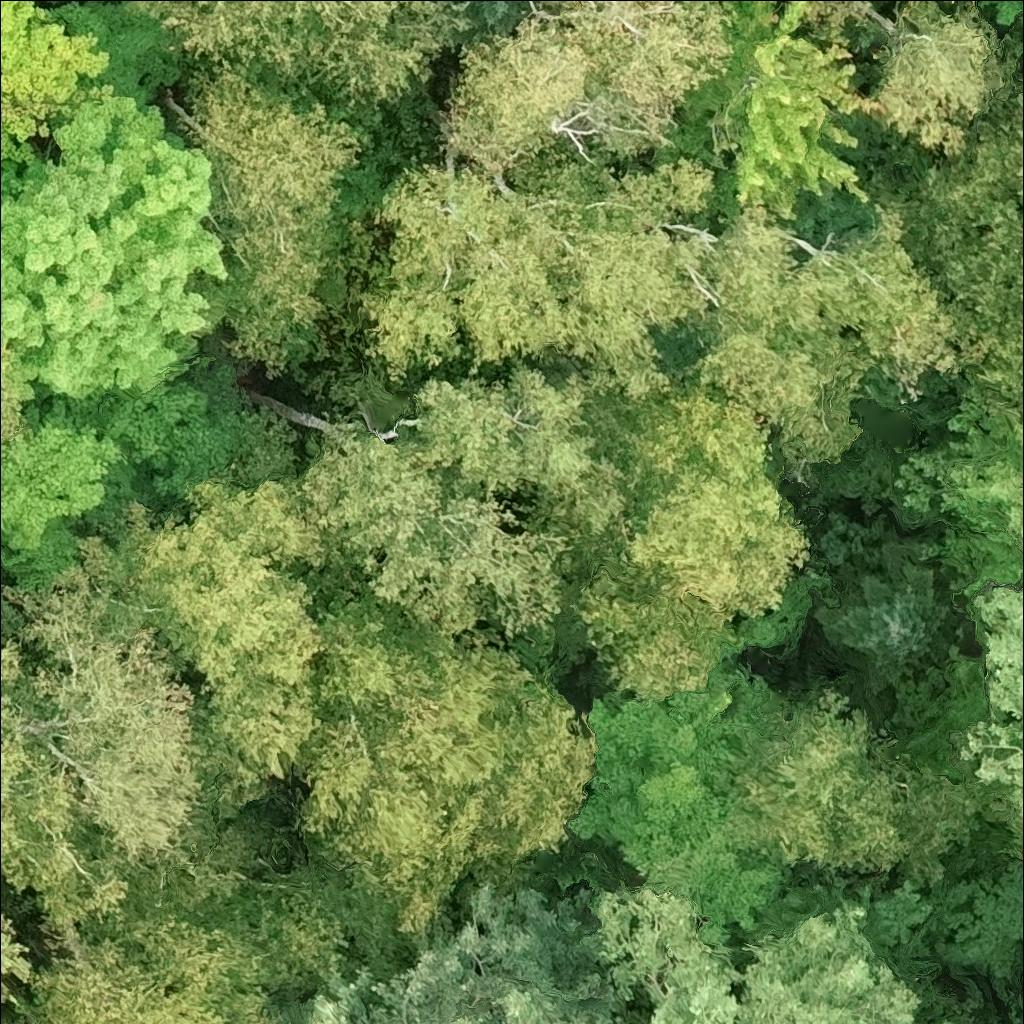crown: (292, 593, 597, 966), (0, 558, 268, 958), (77, 474, 367, 822), (674, 191, 983, 488), (354, 148, 718, 400), (0, 91, 232, 409), (171, 58, 376, 376), (569, 661, 787, 947), (301, 418, 577, 643), (565, 378, 811, 621), (433, 0, 741, 186), (13, 863, 360, 1023), (643, 0, 886, 217), (726, 682, 989, 881), (593, 882, 959, 1023), (279, 878, 622, 1023), (119, 0, 479, 124), (409, 358, 632, 542), (911, 83, 1023, 424), (0, 402, 161, 588), (863, 0, 1020, 157), (811, 530, 962, 693), (569, 560, 743, 701), (0, 0, 119, 166), (896, 402, 1023, 555), (956, 582, 1023, 863), (462, 0, 553, 44), (0, 911, 33, 1008), (803, 0, 877, 33), (0, 343, 23, 447), (980, 0, 1023, 31), (0, 545, 1, 558)
